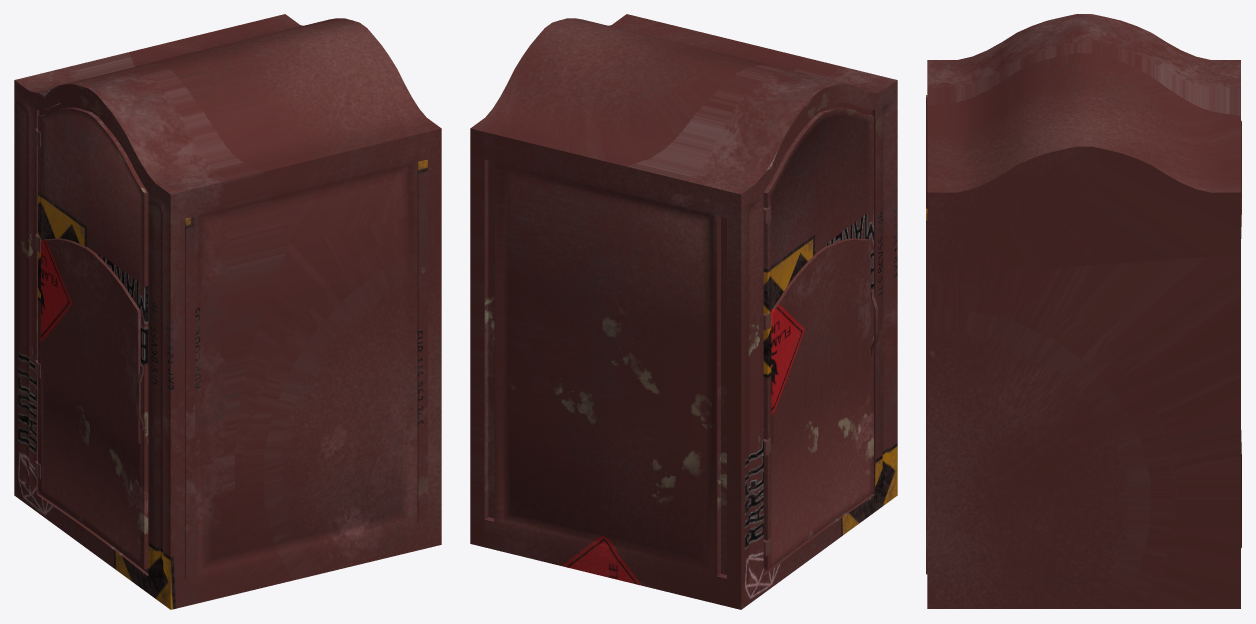
File: CS_mobile_toilet.FBX
3 renders of one model, left to right at view 1: azimuth 30°, elevation 25°; view 2: azimuth 150°, elevation 25°; view 3: azimuth 270°, elevation 25°, orthographic.
Visible parts, largest first — view 1: SM_mobile_toilet; view 2: SM_mobile_toilet; view 3: SM_mobile_toilet.
Boxes of the visible parts, x1=… form: SM_mobile_toilet: x1=14, y1=14, x2=441, y2=609; SM_mobile_toilet: x1=470, y1=14, x2=897, y2=609; SM_mobile_toilet: x1=926, y1=14, x2=1241, y2=608.
Bounding box in the file's own units: 160 × 158 × 255.
